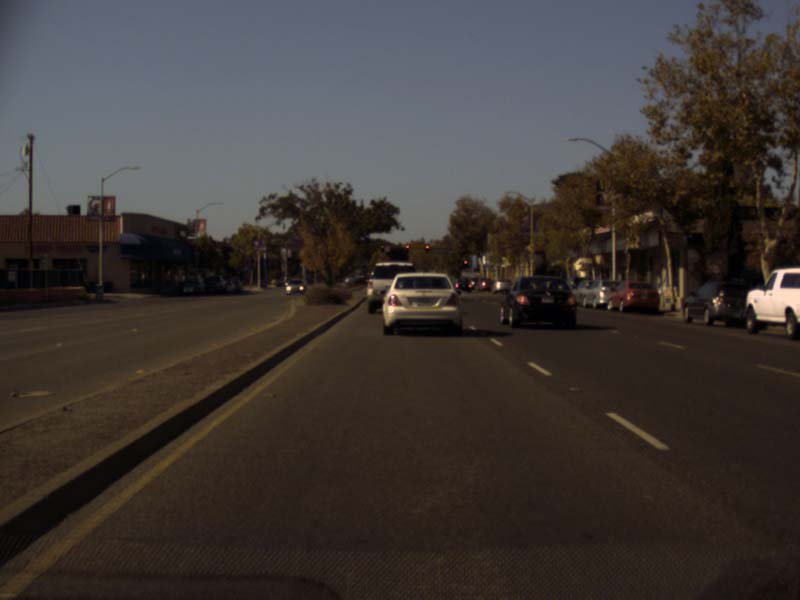Red: (404, 243, 409, 251), (380, 244, 384, 252), (463, 259, 467, 266), (424, 245, 430, 249)
